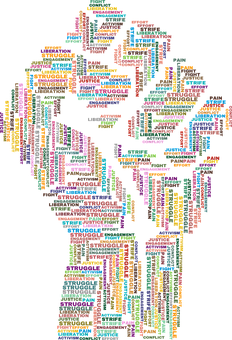fist: (10, 12, 210, 228)
